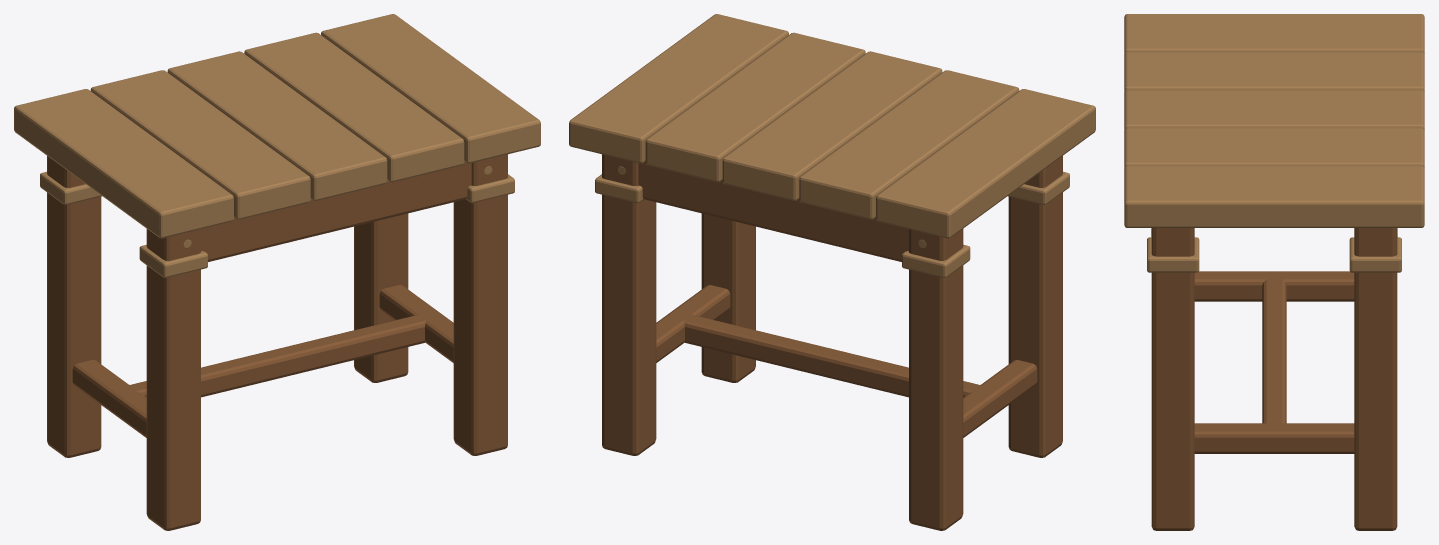
The model's file is FieldDesk.fbx.
3 renders of one model, left to right at view 1: azimuth 30°, elevation 25°; view 2: azimuth 150°, elevation 25°; view 3: azimuth 270°, elevation 25°, orthographic.
Parts seen in each view (by area): view 1: FieldDesk; view 2: FieldDesk; view 3: FieldDesk.
Part boxes in pixels (x1=…): FieldDesk: x1=14, y1=14, x2=540, y2=530; FieldDesk: x1=569, y1=14, x2=1095, y2=530; FieldDesk: x1=1124, y1=14, x2=1424, y2=530.
Bounding box in the file's own units: 119 × 100 × 80.
